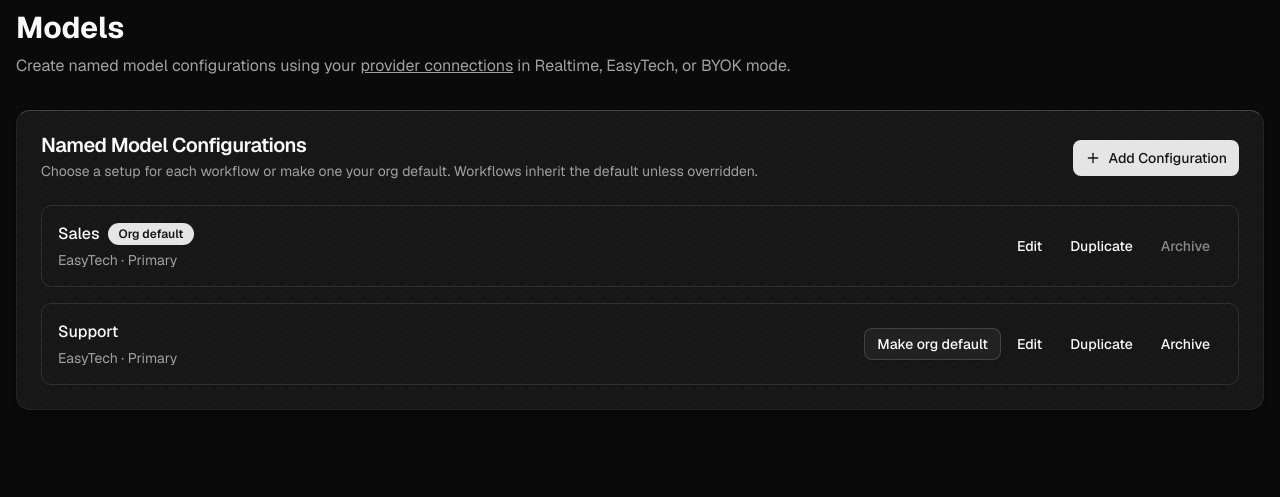
provider connection and model configuration lists › shows default selection errors without reporting a successful change
The width and height of the screenshot is (1280, 497).
Click the button "Make org default": [933, 344] box [864,328,1001,360]
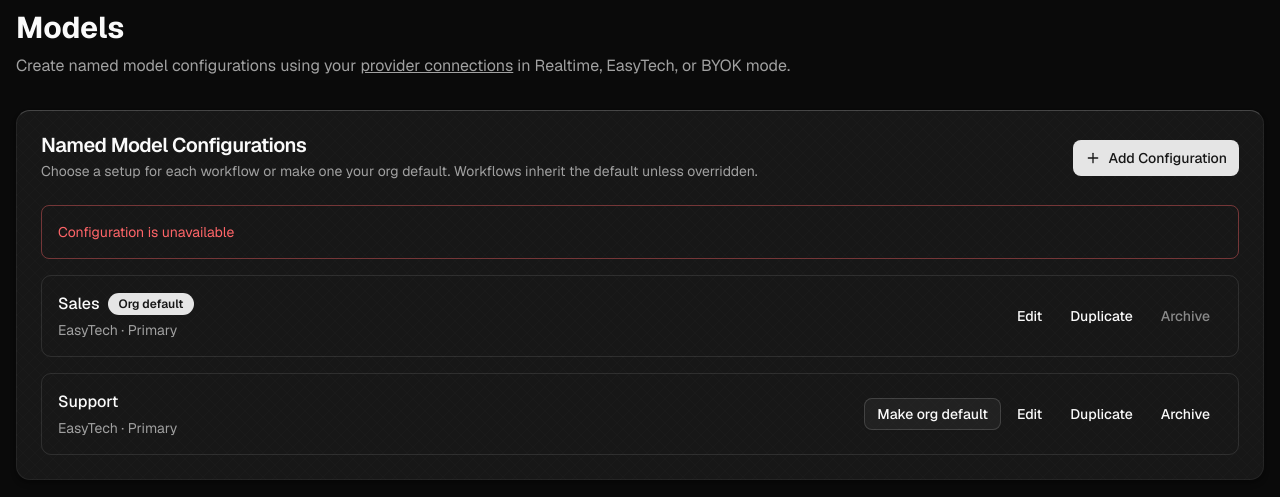
Result: the message reads "Configuration is unavailable" at [58,223,234,241]
